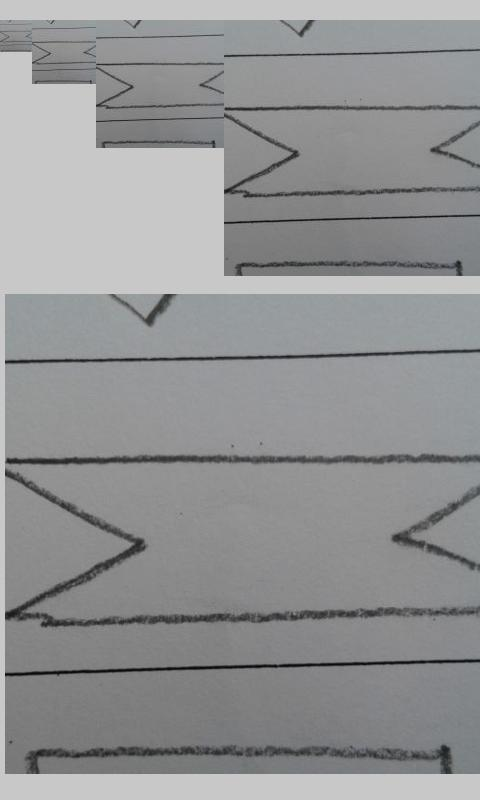edit_text: (6, 454, 480, 626), (223, 104, 480, 197), (96, 62, 223, 109), (32, 41, 96, 65), (1, 30, 32, 43)
